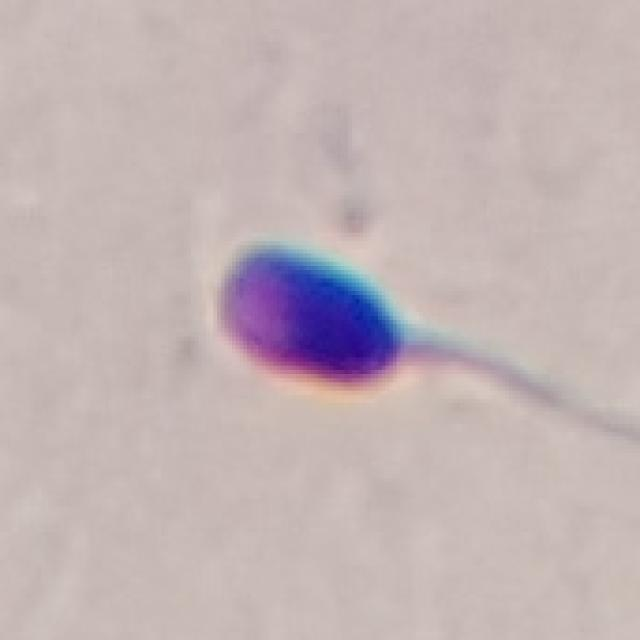normal sperm: (213, 244, 504, 395)
